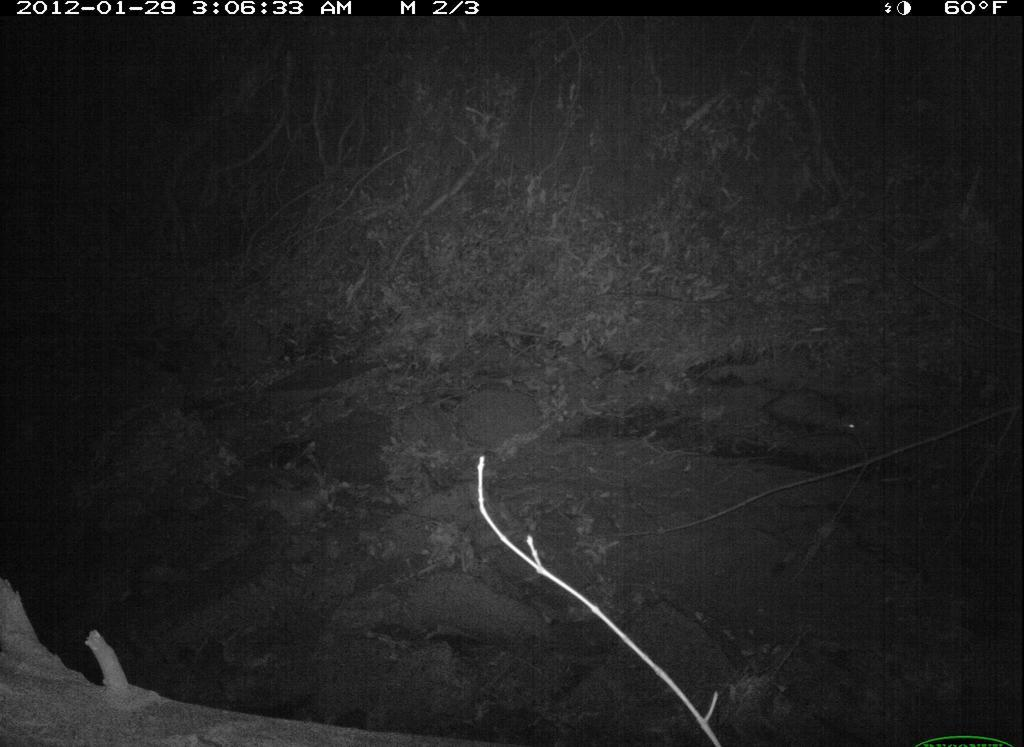opossum: (752, 373, 907, 457)
